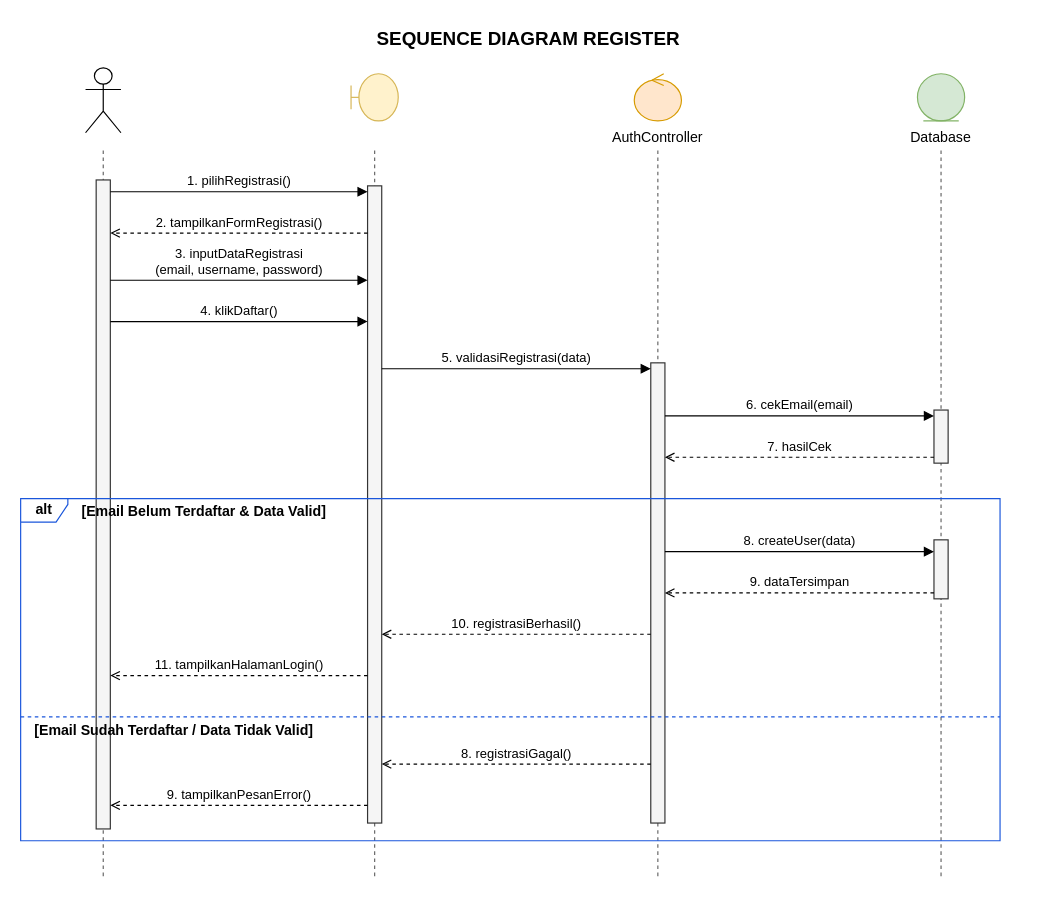
Image size: 1044x898. Some labels were removed from this diagram. Each missing label, with the centre of its shape:
"RegisterUI" goes at point (374, 97).
"User" goes at point (102, 100).
